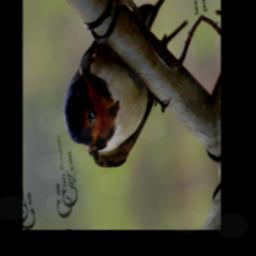Swallow: (52, 0, 201, 182)
